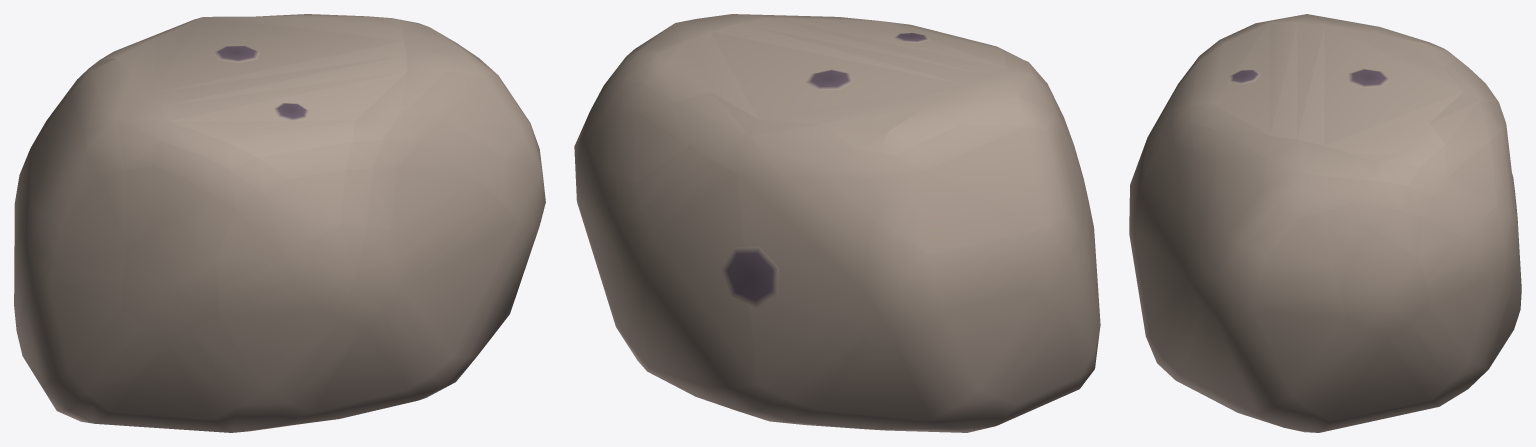
The model's file is boulder_a.glb.
The picture shows the model from 3 angles, left to right: view 1: azimuth 30°, elevation 25°; view 2: azimuth 150°, elevation 25°; view 3: azimuth 270°, elevation 25°; orthographic projection. The views are drawn at different scales.
Parts seen in each view (by area): view 1: boulder_a; view 2: boulder_a; view 3: boulder_a.
Boxes of the visible parts, <box> form: boulder_a: <box>14,14,545,432</box>; boulder_a: <box>574,14,1100,432</box>; boulder_a: <box>1129,14,1521,432</box>.
Bounding box in the file's own units: 3.74 × 2.25 × 2.93.
